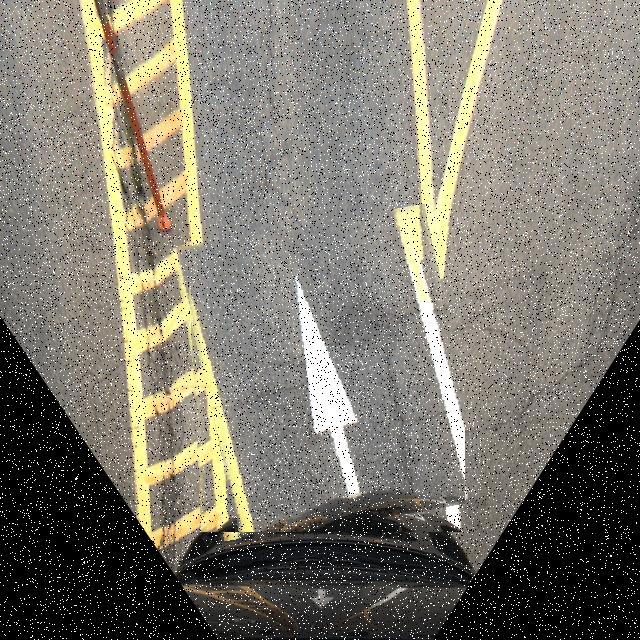forward: (185, 214, 465, 532)
